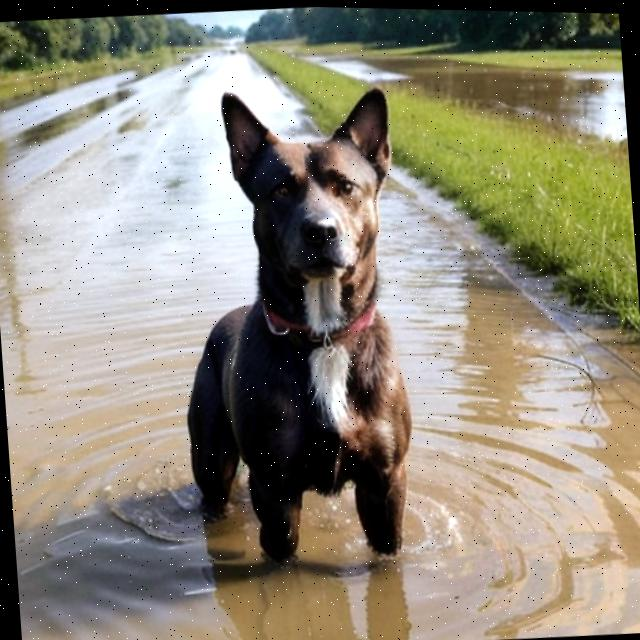dog: (162, 79, 446, 586)
